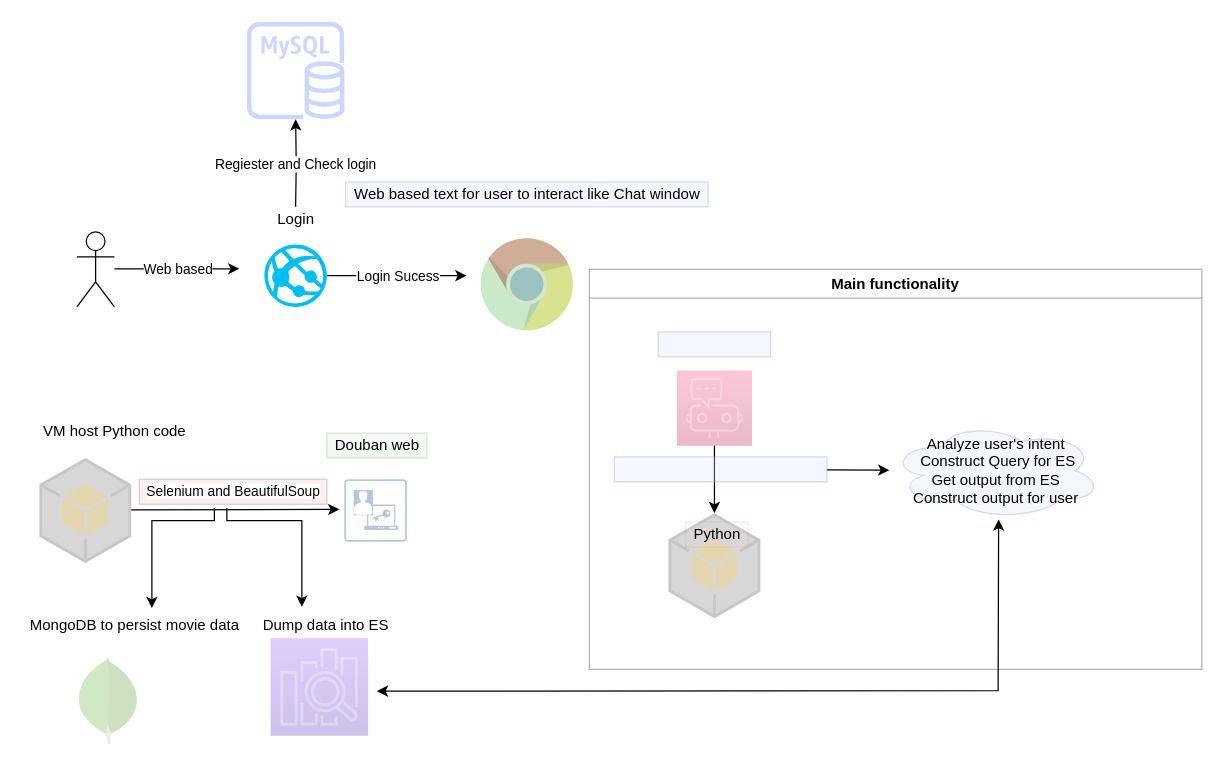
The diagram is 1224 pixels wide and 766 high, and some of its shapes have lost their labels. The box of each missing label's shape, as (x1, y1, x2, y2) in pixels:
Chatbot model: (657, 331, 771, 357)
Natural Language Processing: (613, 456, 827, 482)
User: (76, 231, 114, 307)
